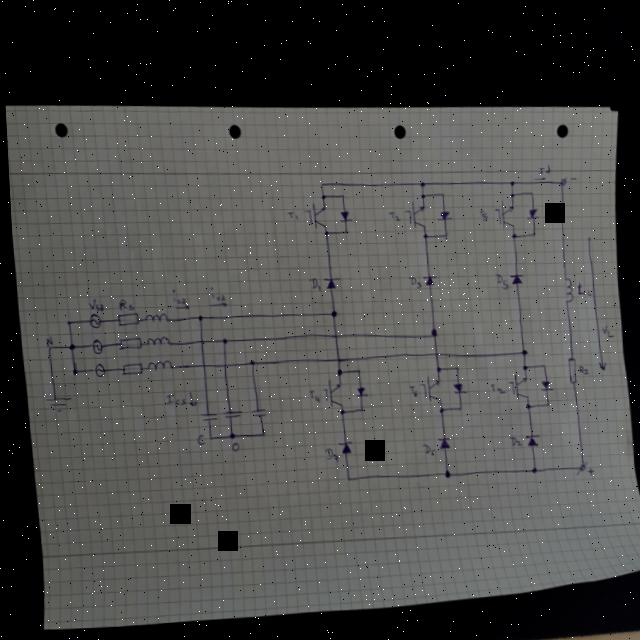capacitor: (217, 407, 238, 419), (195, 410, 214, 421), (246, 406, 262, 417)
crossover: (329, 331, 335, 338), (331, 355, 337, 361), (429, 348, 435, 354), (197, 361, 203, 366), (218, 361, 223, 366), (196, 337, 200, 342)
diode: (331, 436, 350, 455), (431, 204, 451, 222), (319, 272, 339, 289), (518, 429, 536, 447), (418, 270, 436, 285), (335, 206, 351, 222), (534, 375, 551, 390), (446, 379, 462, 394), (349, 383, 365, 398), (431, 434, 446, 449), (523, 203, 536, 218), (506, 270, 520, 282)
ground: (37, 393, 67, 414)
inductor: (141, 334, 167, 348), (559, 273, 571, 301), (142, 359, 169, 371), (139, 312, 165, 323)
junction: (325, 307, 334, 316), (425, 325, 433, 335), (333, 405, 342, 413), (516, 345, 524, 353), (525, 463, 533, 471), (438, 469, 446, 476), (508, 230, 515, 238), (506, 177, 513, 184), (66, 368, 73, 375), (244, 358, 251, 365), (417, 189, 424, 196), (332, 366, 338, 374), (417, 178, 423, 186), (64, 341, 70, 349), (318, 191, 324, 198), (433, 404, 439, 411), (62, 318, 68, 325), (255, 429, 261, 436), (520, 400, 526, 407), (354, 404, 360, 411), (317, 179, 323, 186), (527, 229, 534, 235), (437, 190, 444, 196), (420, 231, 426, 238), (507, 188, 513, 195), (517, 361, 524, 367), (193, 315, 199, 321), (224, 432, 230, 438), (337, 191, 343, 197), (340, 474, 346, 480), (537, 360, 543, 366), (540, 398, 546, 404), (351, 366, 357, 372), (218, 335, 224, 341), (441, 230, 447, 236), (527, 187, 533, 193), (203, 433, 209, 438), (320, 229, 326, 234), (432, 364, 437, 370), (449, 363, 454, 367), (340, 227, 344, 231), (453, 403, 457, 407), (43, 345, 47, 349)
resistor: (113, 336, 140, 351), (562, 354, 576, 382), (113, 311, 135, 326), (116, 362, 138, 375)
source: (84, 312, 100, 329), (86, 337, 99, 353), (89, 362, 102, 377)
terminal: (569, 457, 584, 473), (555, 173, 567, 183)
text: (570, 275, 590, 297), (159, 390, 183, 407), (317, 443, 335, 463), (168, 286, 185, 307), (205, 284, 223, 302), (82, 297, 102, 313), (492, 268, 506, 288), (113, 296, 130, 312), (484, 378, 502, 393), (404, 272, 420, 287), (596, 319, 611, 335), (304, 387, 318, 402), (305, 275, 319, 289), (385, 207, 399, 220), (418, 440, 430, 455), (535, 161, 549, 173), (284, 208, 297, 220), (505, 432, 517, 445), (475, 206, 486, 220), (574, 360, 585, 373), (404, 382, 414, 396), (190, 433, 200, 445), (40, 334, 50, 346), (225, 440, 235, 450), (581, 463, 589, 473), (567, 172, 575, 179)
transistor: (499, 368, 526, 399), (317, 376, 340, 409), (400, 198, 425, 227), (490, 196, 514, 226), (414, 372, 438, 401), (301, 201, 325, 227)
